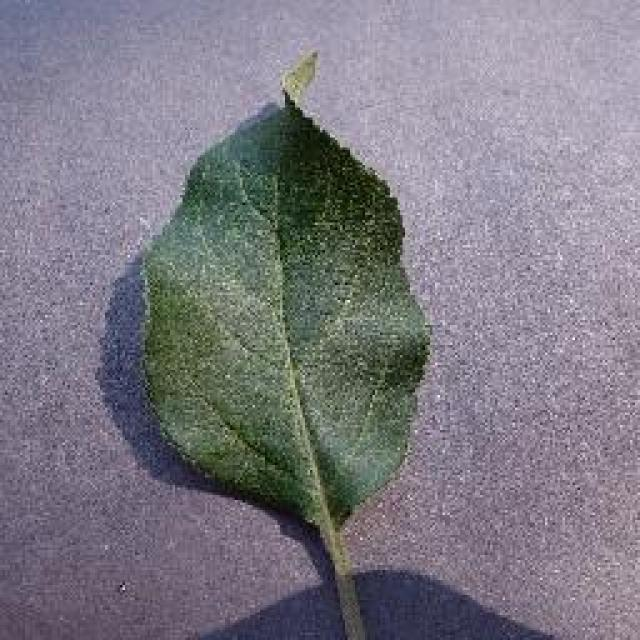Apple___healthy: (120, 42, 452, 640)
